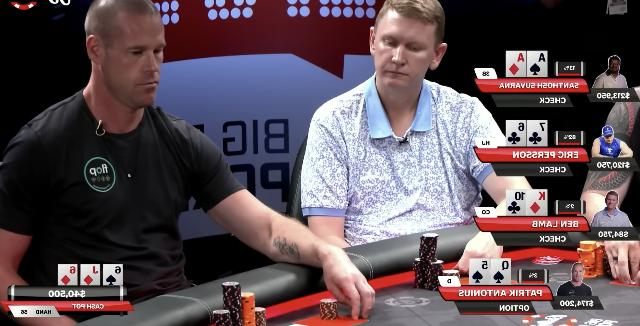10C: (506, 190, 526, 216)
5S: (472, 260, 488, 286)
6C: (506, 120, 526, 146)
6D: (60, 266, 76, 286)
6S: (105, 266, 122, 286)
7C: (528, 122, 546, 146)
AD: (507, 52, 525, 78)
AS: (528, 52, 546, 76)
JD: (82, 266, 98, 286)
KD: (528, 190, 546, 216)
QS: (492, 260, 510, 286)
